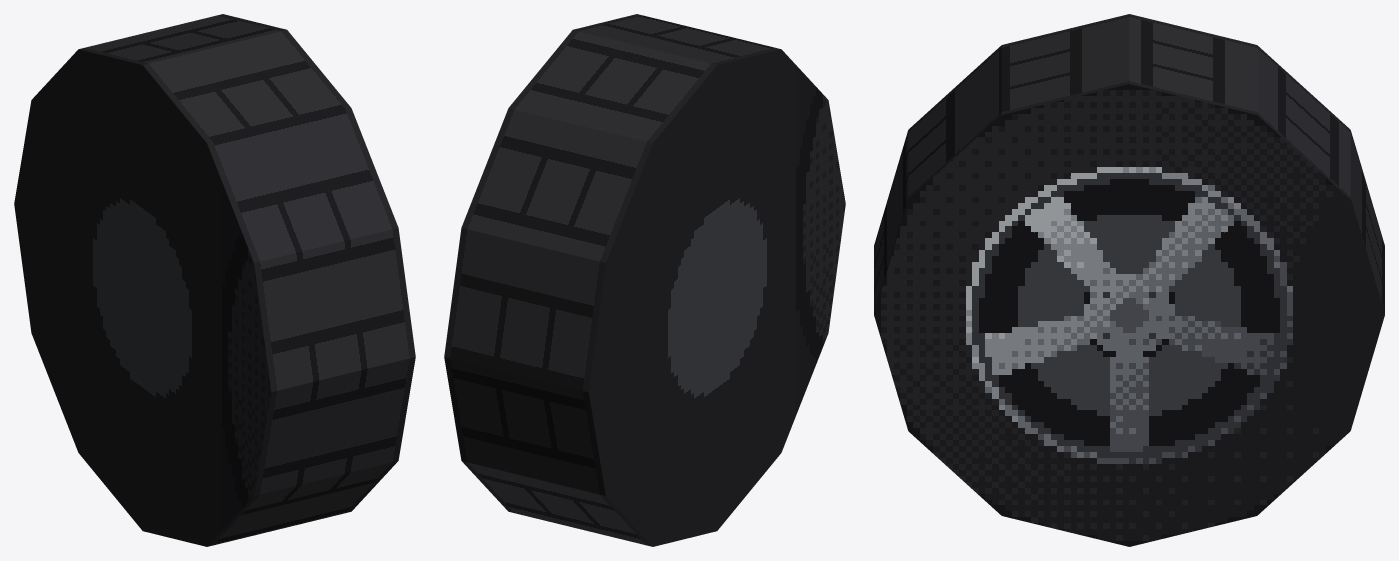
Rendered from wheel_stock.glb.
3 renders of one model, left to right at view 1: azimuth 30°, elevation 25°; view 2: azimuth 150°, elevation 25°; view 3: azimuth 270°, elevation 25°, orthographic.
Parts seen in each view (by area): view 1: wheel_stock; view 2: wheel_stock; view 3: wheel_stock.
Part boxes in pixels (x1,y1,x2,y2): wheel_stock: [14, 14, 415, 546]; wheel_stock: [444, 14, 845, 546]; wheel_stock: [874, 14, 1384, 546].
Bounding box in the file's own units: 0.205 × 0.6319 × 0.6319.
Materials: 1 (1 with a texture image).
